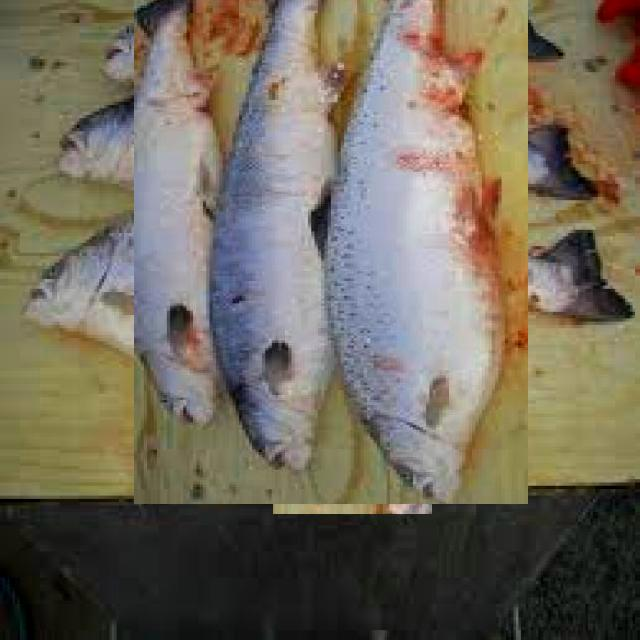EUS Disease: (79, 0, 582, 449), (223, 205, 482, 465), (379, 0, 523, 117), (409, 116, 491, 190), (134, 21, 246, 70)
